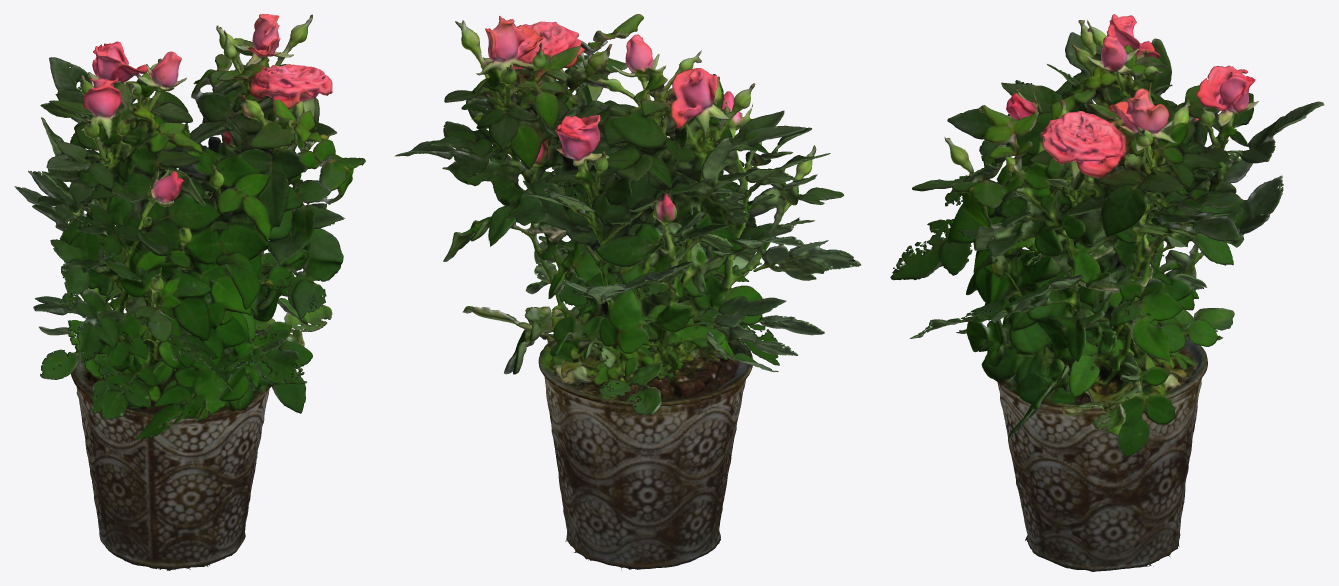
File: rose_in_a_pot.glb
3 views of the same model, side by side, from view 1: azimuth 30°, elevation 25°; view 2: azimuth 150°, elevation 25°; view 3: azimuth 270°, elevation 25° (orthographic). The views are drawn at different scales.
Parts seen in each view (by area): view 1: Object_3, Object_7, Object_2, Object_6, Object_4, Object_8, Object_5; view 2: Object_2, Object_3, Object_5, Object_4, Object_6, Object_7, Object_8; view 3: Object_7, Object_3, Object_2, Object_6, Object_4, Object_8, Object_5.
Boxes of the visible parts, box(x1,y1,x2,y2) form: Object_3: box(35, 14, 365, 438); Object_7: box(48, 38, 343, 440); Object_2: box(73, 381, 269, 570); Object_6: box(14, 41, 294, 413); Object_4: box(33, 45, 274, 391); Object_8: box(101, 25, 342, 435); Object_5: box(35, 87, 201, 370); Object_2: box(544, 347, 751, 569); Object_3: box(409, 14, 858, 415); Object_5: box(506, 125, 806, 404); Object_4: box(488, 106, 807, 409); Object_6: box(445, 56, 827, 415); Object_7: box(419, 34, 860, 386); Object_8: box(394, 38, 835, 374); Object_7: box(947, 14, 1242, 449); Object_3: box(890, 15, 1323, 435); Object_2: box(996, 378, 1201, 571); Object_6: box(986, 15, 1324, 409); Object_4: box(1001, 38, 1298, 398); Object_8: box(925, 96, 1243, 456); Object_5: box(1068, 67, 1281, 385).
Size of the model in its own units: 14.21 by 20.3 by 15.76.
Materials: 2 (2 with a texture image).
